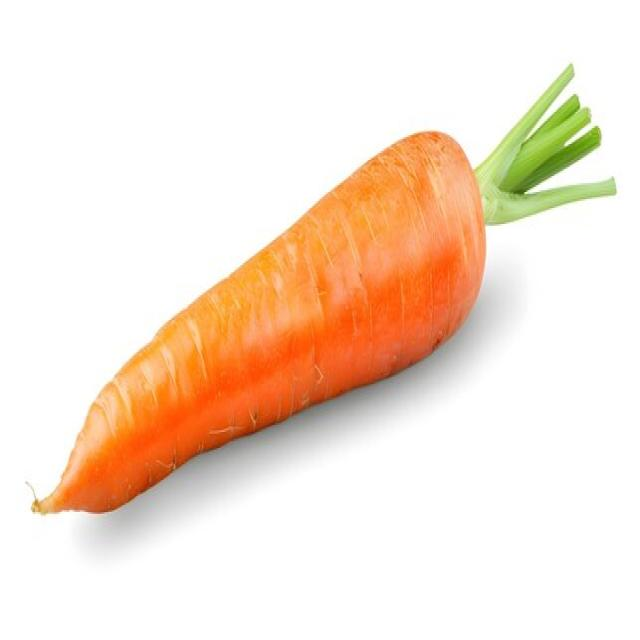Beetroot: (27, 60, 616, 518)
